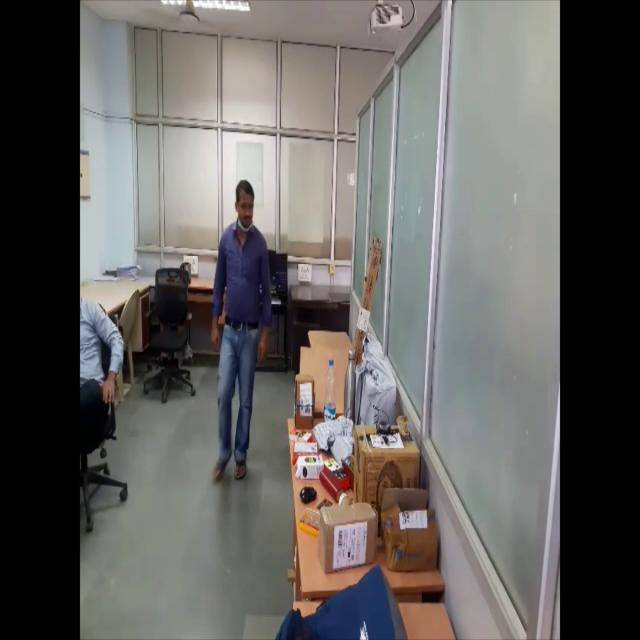normal: (201, 172, 278, 500)
